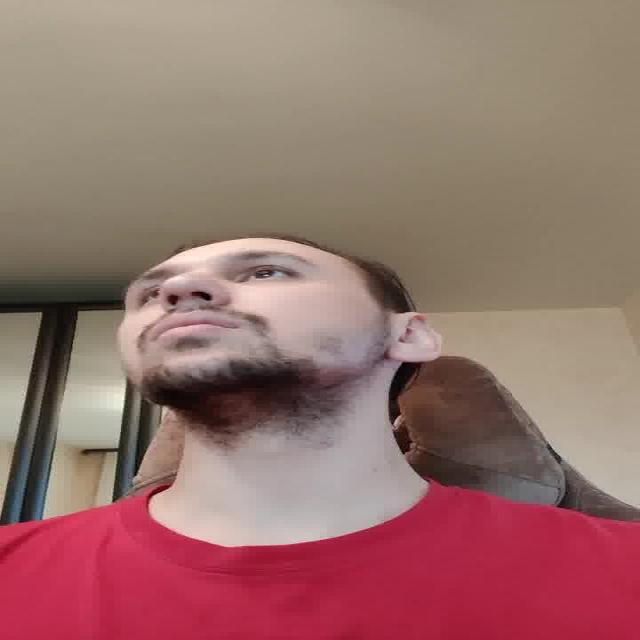earlobe: (384, 341, 424, 363)
eye: (234, 267, 300, 283), (133, 288, 166, 304)
nose: (162, 301, 226, 315)
wholeear: (385, 311, 444, 363)
